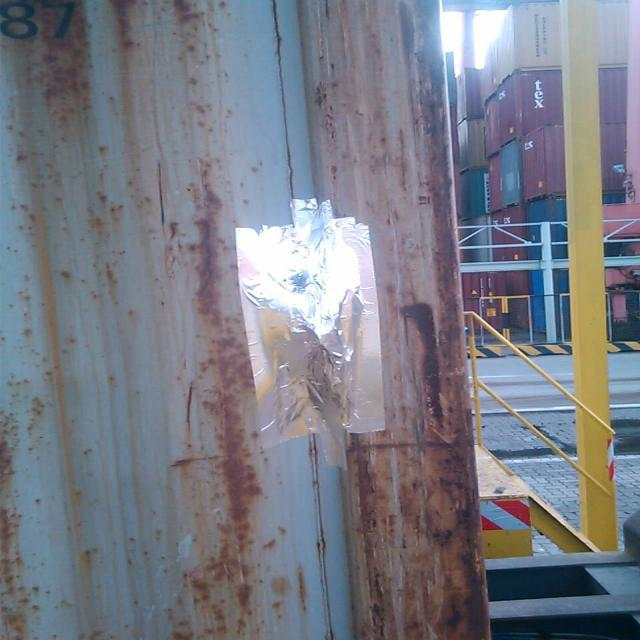rust: (350, 4, 492, 640), (173, 124, 257, 640), (4, 1, 93, 148), (1, 407, 37, 640), (161, 1, 223, 37), (100, 1, 146, 45)
